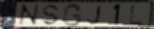1: (110, 4, 122, 27)
G: (61, 3, 84, 28)
J: (86, 5, 103, 26)
L: (128, 4, 145, 26)
N: (17, 4, 41, 27)
S: (40, 3, 62, 27)
